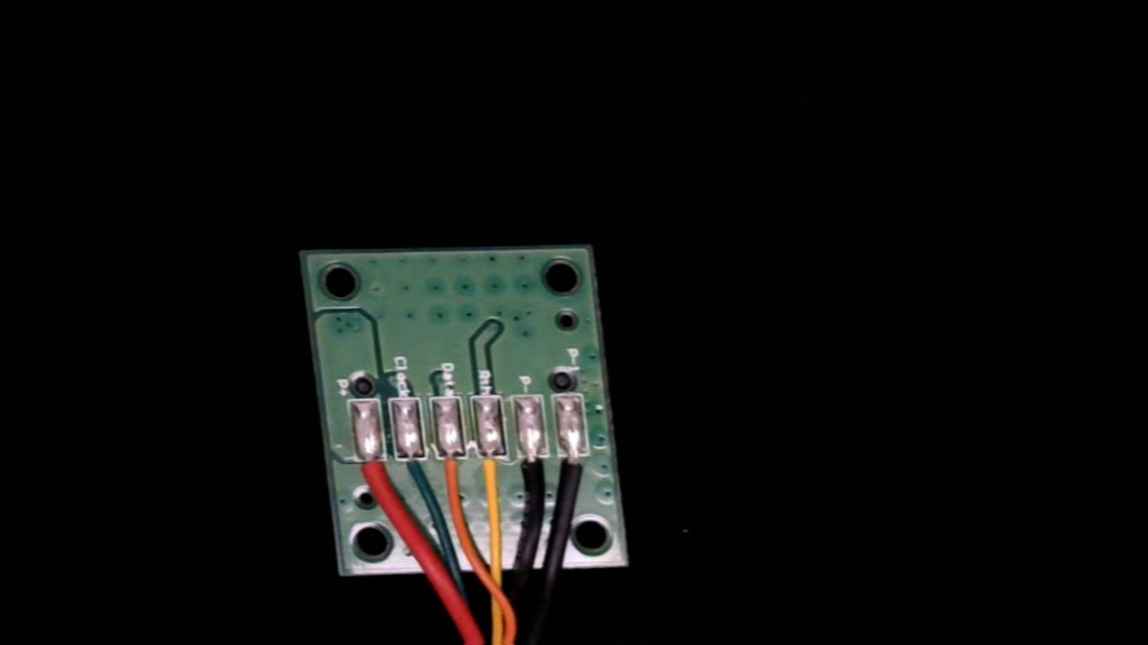Black: (517, 442, 556, 501)
Black1: (558, 439, 599, 504)
Green: (397, 446, 431, 503)
Orange: (435, 443, 473, 504)
Red: (353, 445, 396, 514)
Yellow: (474, 442, 517, 515)
